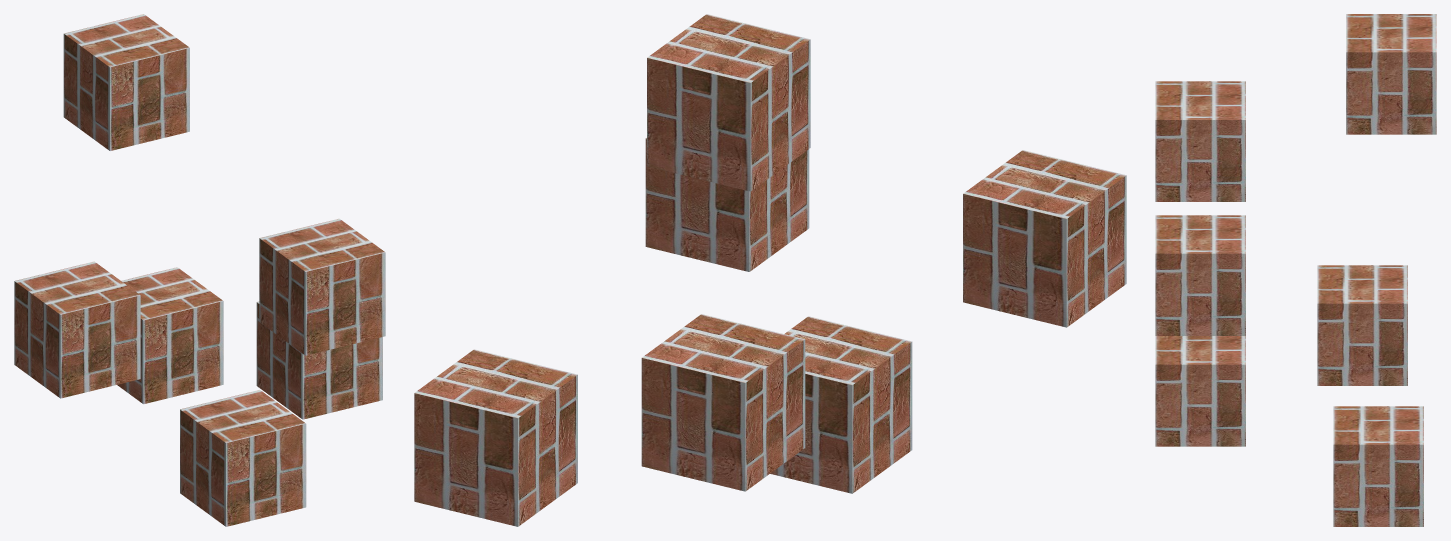
Rendered from brick2.fbx.
3 views of the same model, side by side, from view 1: azimuth 30°, elevation 25°; view 2: azimuth 150°, elevation 25°; view 3: azimuth 270°, elevation 25° (orthographic). The views are drawn at different scales.
Visible parts, largest first — view 1: Cube.003, Cube.005, Cube.001, Cube.006, Cube.002, Cube.004; view 2: Cube.002, Cube.004, Cube.005, Cube.006, Cube.001, Cube.003; view 3: Cube.002, Cube.003, Cube.004, Cube.005, Cube.006, Cube.001.
Part boxes in pixels (<box>): Cube.003: <box>259,218,385,355</box>; Cube.005: <box>14,261,140,398</box>; Cube.001: <box>180,390,306,526</box>; Cube.006: <box>63,14,189,150</box>; Cube.002: <box>117,267,223,404</box>; Cube.004: <box>256,301,382,419</box>; Cube.002: <box>641,314,805,491</box>; Cube.004: <box>414,349,577,526</box>; Cube.005: <box>963,150,1126,327</box>; Cube.006: <box>647,14,810,191</box>; Cube.001: <box>770,316,912,493</box>; Cube.003: <box>645,137,809,271</box>; Cube.002: <box>1317,265,1407,385</box>; Cube.003: <box>1155,215,1245,335</box>; Cube.004: <box>1333,406,1423,526</box>; Cube.005: <box>1155,81,1245,201</box>; Cube.006: <box>1346,14,1436,134</box>; Cube.001: <box>1155,336,1245,446</box>.
Bounding box in the file's own units: 1031 × 938 × 621.
Materials: 1 (1 with a texture image).
